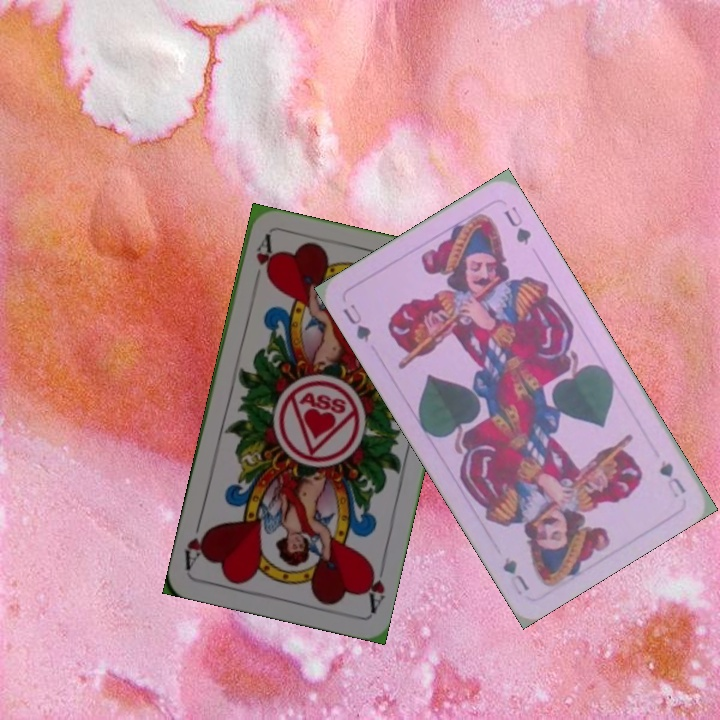GU: (338, 299, 374, 345), (655, 455, 688, 501)
HA: (360, 556, 388, 615), (249, 231, 276, 290)
